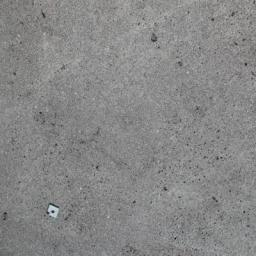FOD: (45, 202, 64, 221)
